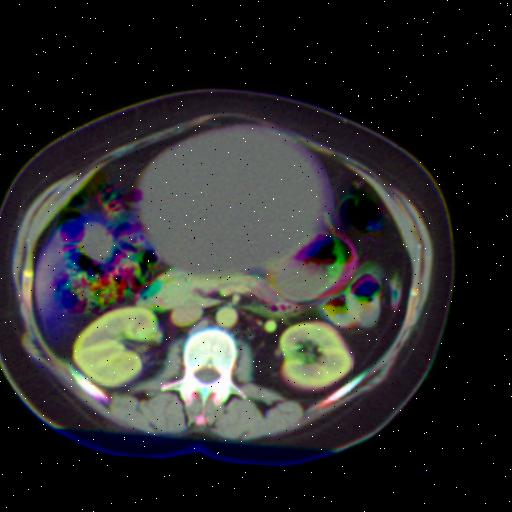Cyst: (140, 123, 336, 292)
